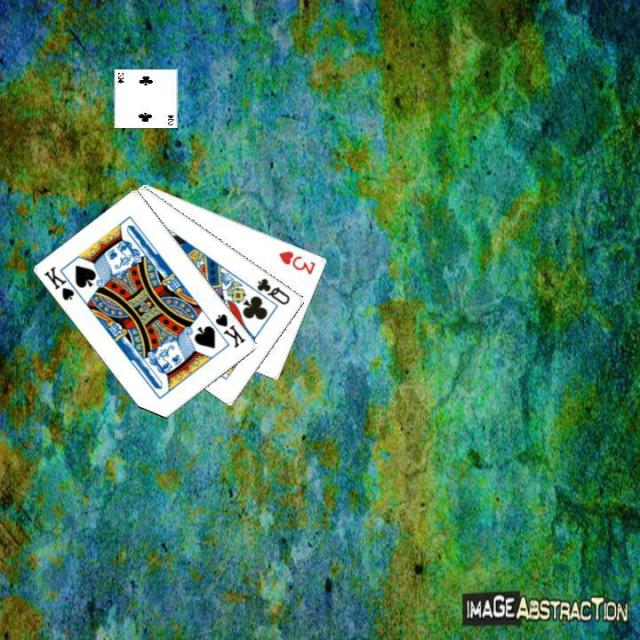3H: (275, 247, 317, 277)
KS: (41, 262, 83, 302), (212, 310, 248, 350)
QC: (254, 274, 292, 306)
